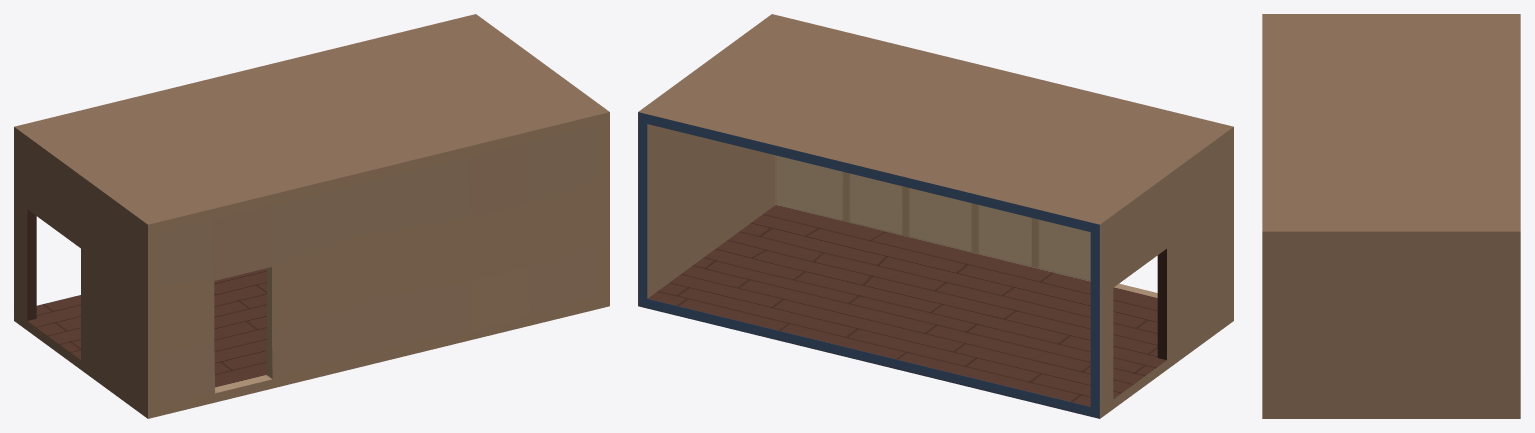
Rendered from Hallway2UP_1Doors_rigtht.fbx.
The picture shows the model from 3 angles, left to right: view 1: azimuth 30°, elevation 25°; view 2: azimuth 150°, elevation 25°; view 3: azimuth 270°, elevation 25°; orthographic projection. The views are drawn at different scales.
Parts seen in each view (by area): view 1: up1doorr_Rght; view 2: up1doorr_Rght; view 3: up1doorr_Rght.
Part boxes in pixels (<box>): up1doorr_Rght: <box>14,14,609,418</box>; up1doorr_Rght: <box>638,14,1233,418</box>; up1doorr_Rght: <box>1262,14,1520,418</box>.
Size of the model in its own units: 996 by 400 by 500.
